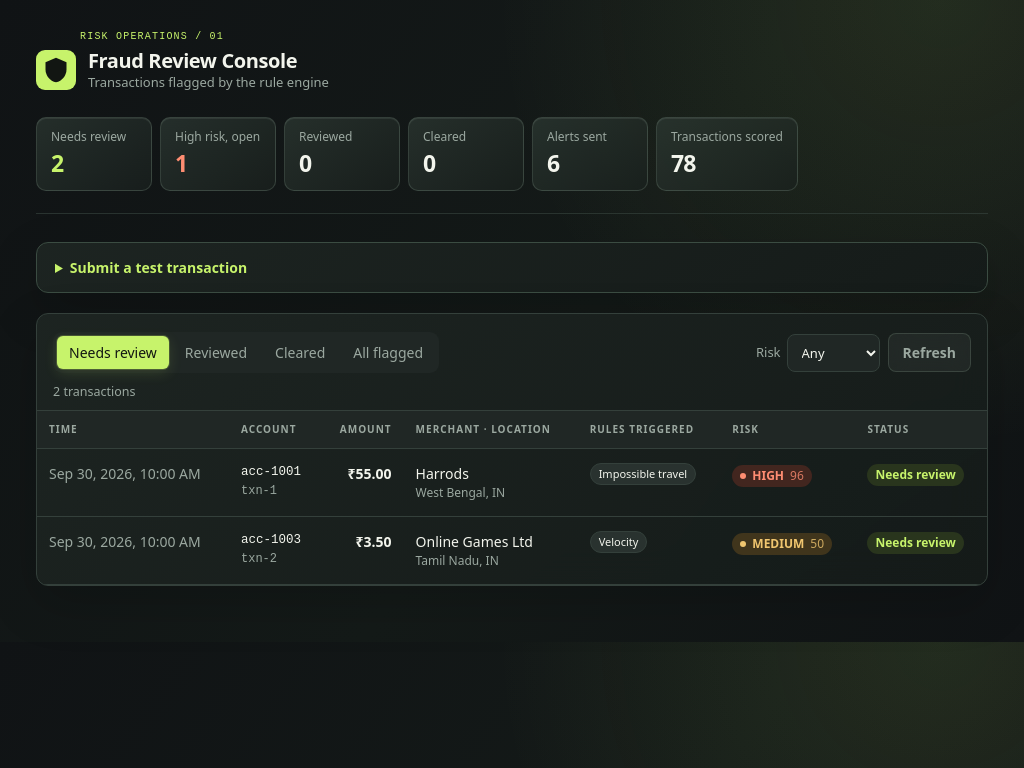
App › filters by risk level
The width and height of the screenshot is (1024, 768).
Expected: the text "Harrods" is shown, [416, 464, 469, 483]
Select "Medium" in the dropdown labelled "Risk": (833, 352) [786, 334, 880, 372]
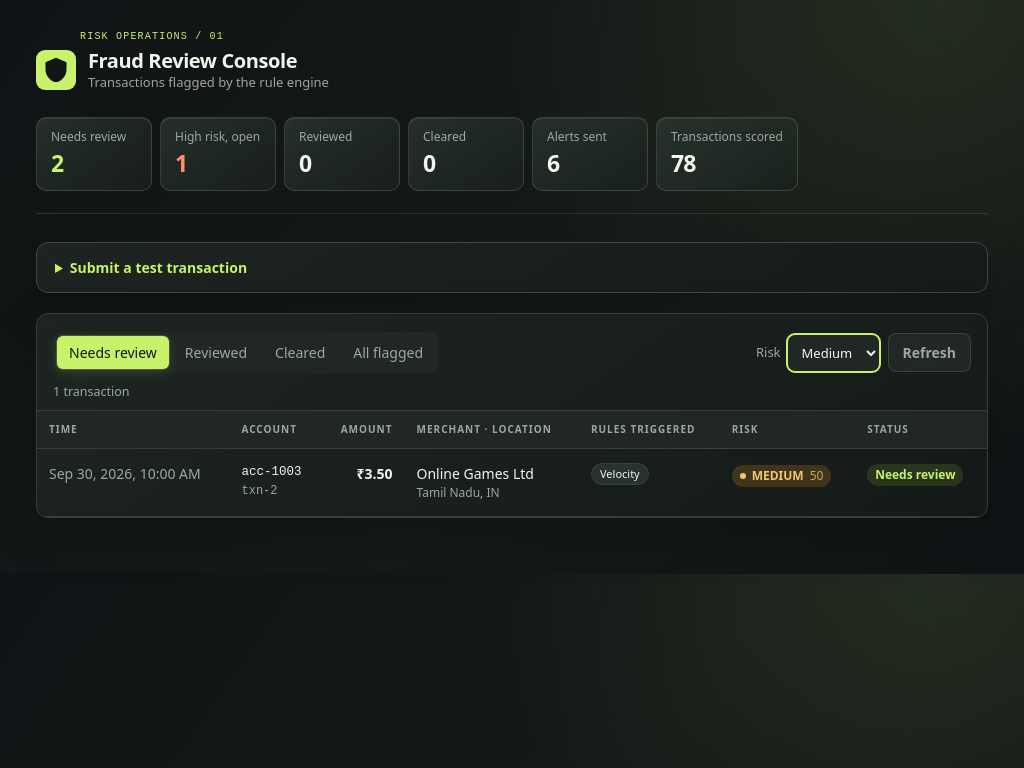
Expected: the text "Online Games Ltd" is shown, [416, 464, 534, 483]
Expected: the text "Harrods" is gone
